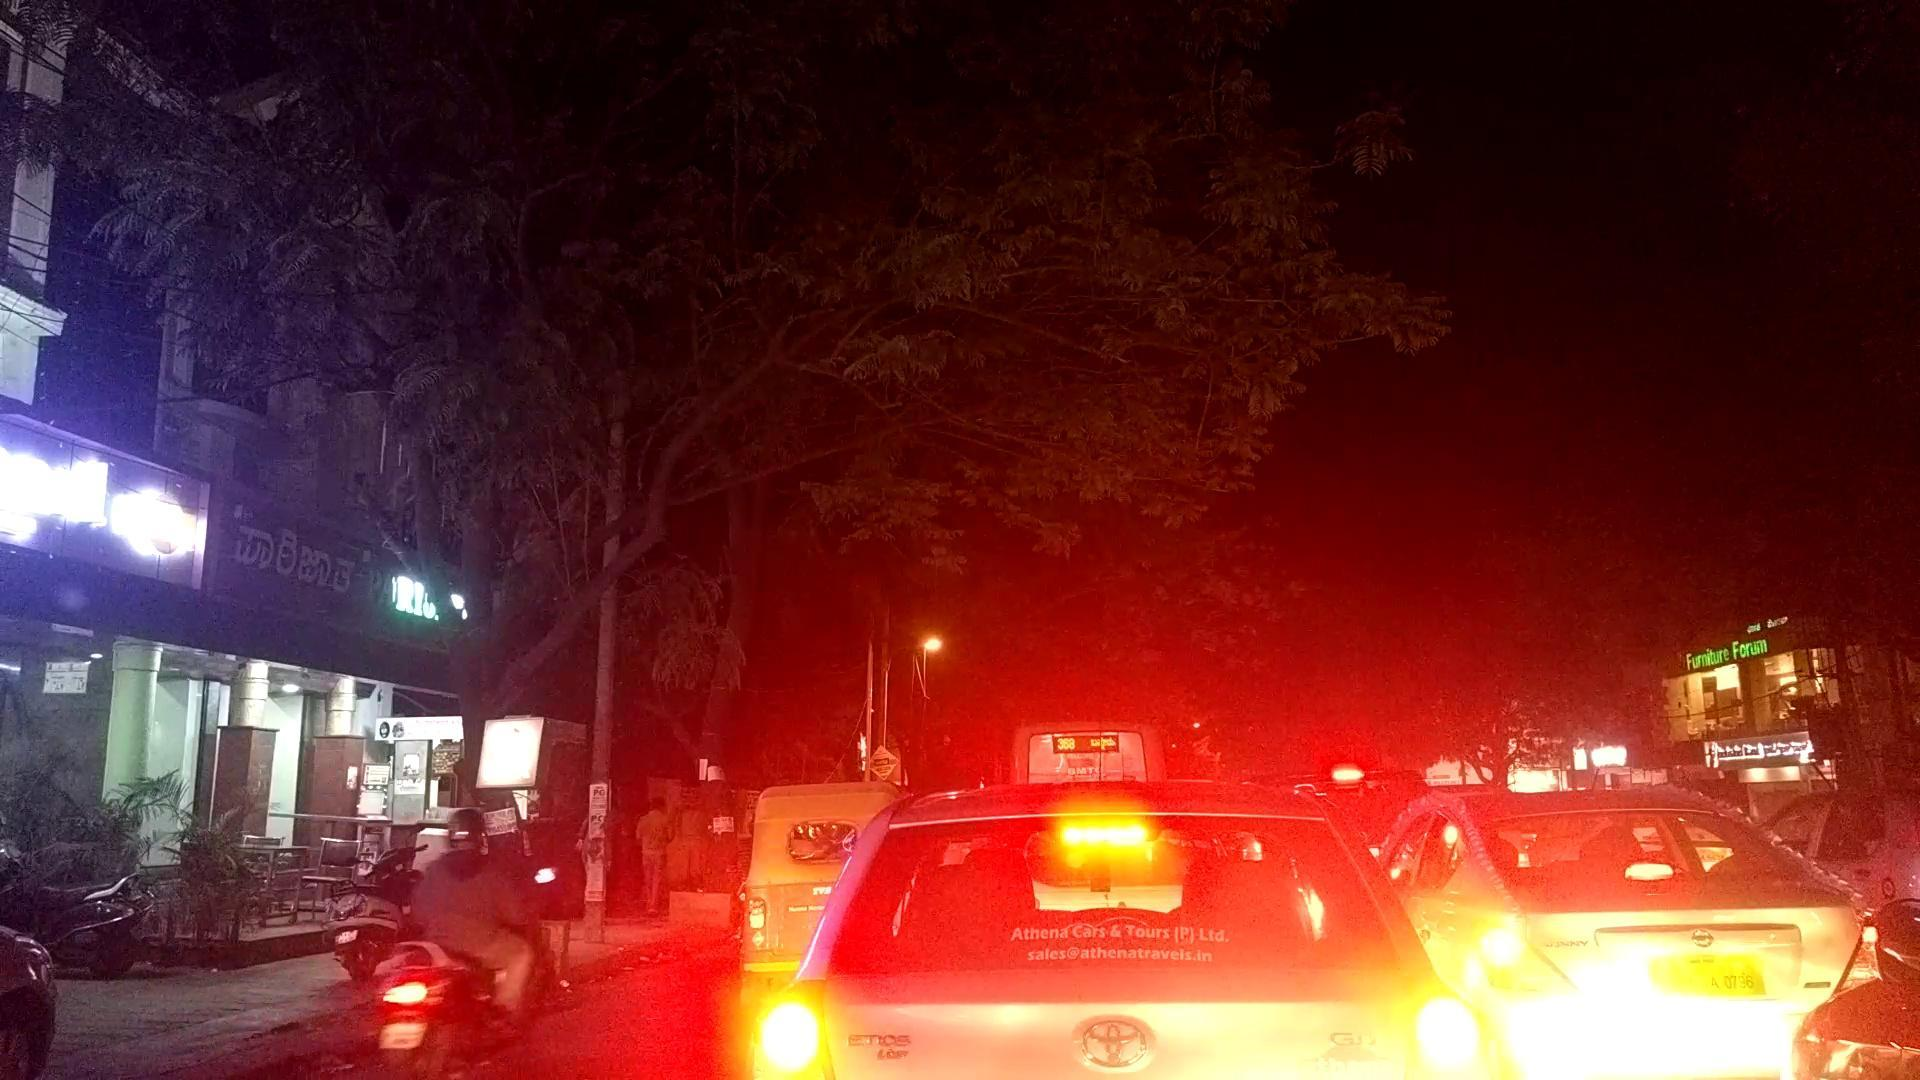on: (30, 62, 1920, 1051)
